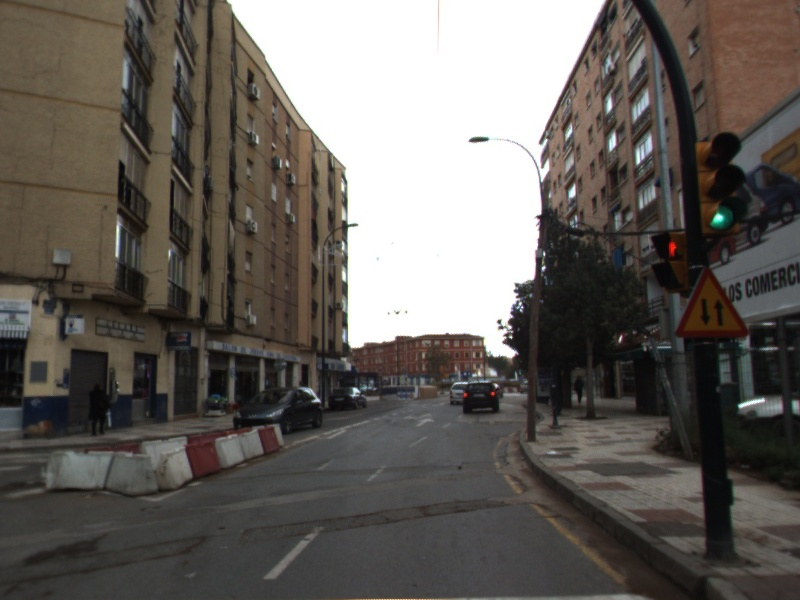STRAIGHT: (413, 416, 436, 428)
STRAIGHT_LEFT: (401, 410, 435, 422)
